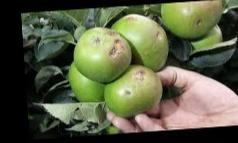rotten apple: (109, 12, 169, 73), (70, 27, 133, 84), (101, 67, 164, 122)
